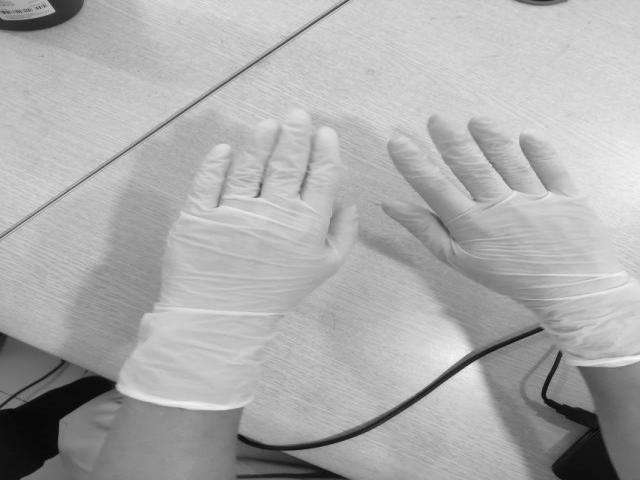gloved: (159, 110, 358, 337), (384, 116, 626, 294)
